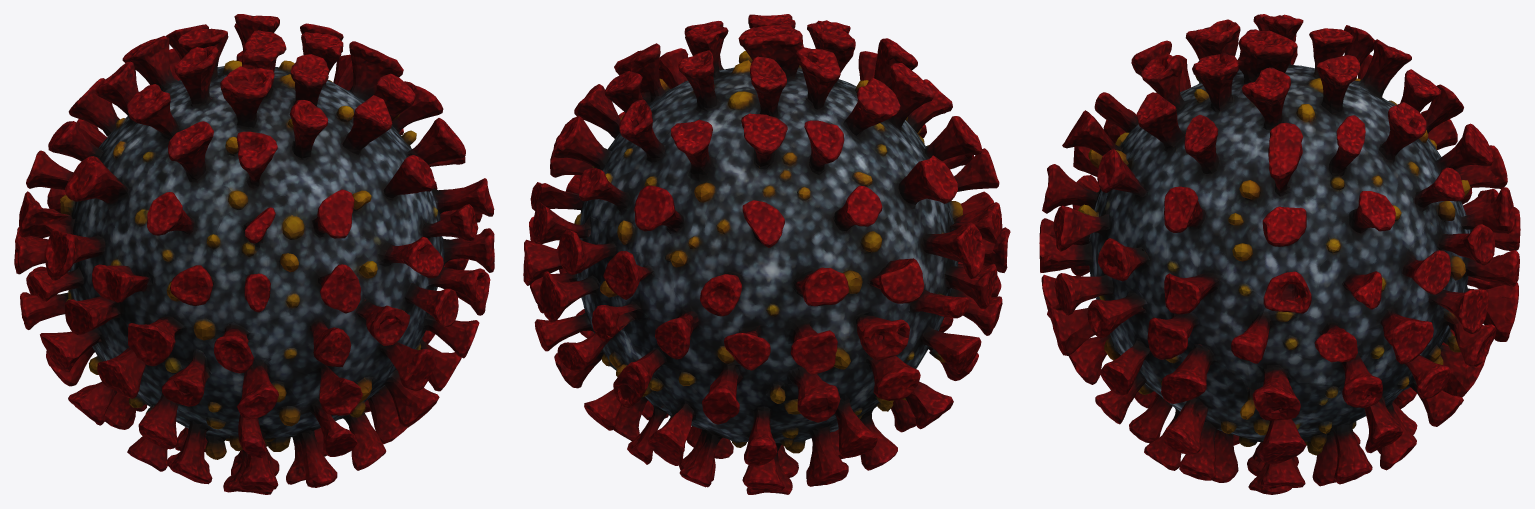
The model's file is enemy-0.fbx.
3 views of the same model, side by side, from view 1: azimuth 30°, elevation 25°; view 2: azimuth 150°, elevation 25°; view 3: azimuth 270°, elevation 25° (orthographic).
Visible parts, largest first — view 1: world; view 2: world; view 3: world.
Boxes of the visible parts, box(x1,y1,x2,y2) form: world: box(14, 14, 494, 494); world: box(523, 14, 1010, 494); world: box(1039, 14, 1520, 494).
Size of the model in its own units: 99.86 by 99.72 by 99.91.
